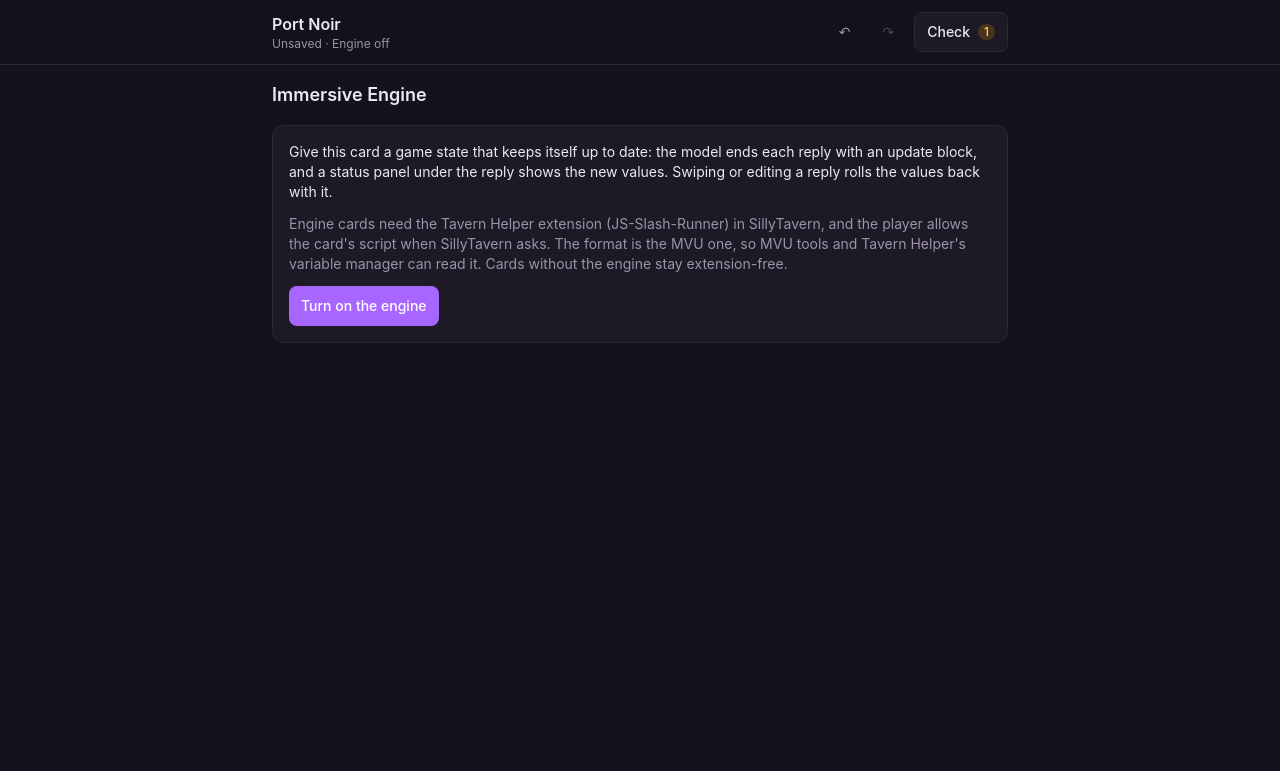
the parts browser › previews a part, and says so for one without a screen
This screenshot has width=1280, height=771.
What coordinates should you click on to do the following:
click the button "Turn on the engine"
I would click on:
 (364, 306)
Its box is [289,286,438,326].
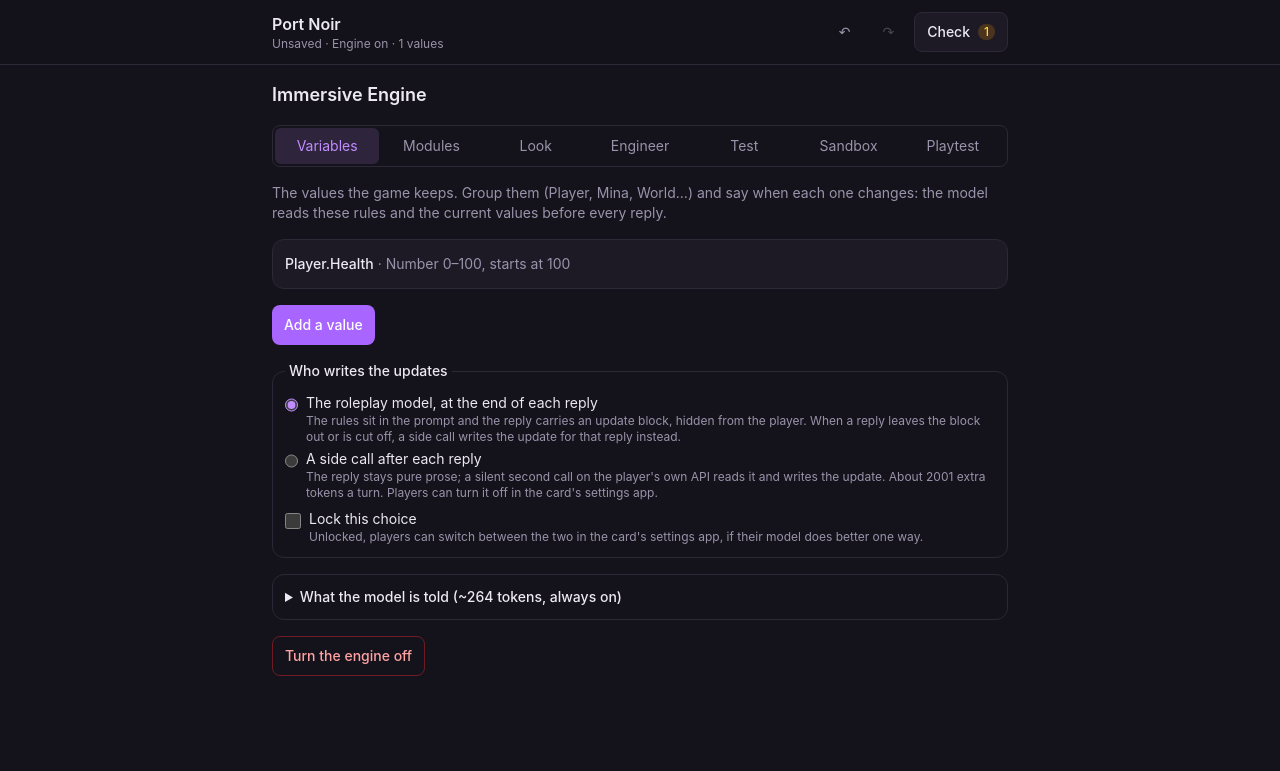
What coordinates should you click on to do the following:
click the tab "Modules"
I would click on:
 (431, 146)
Its box is [379,128,484,164].
(page scrolled)
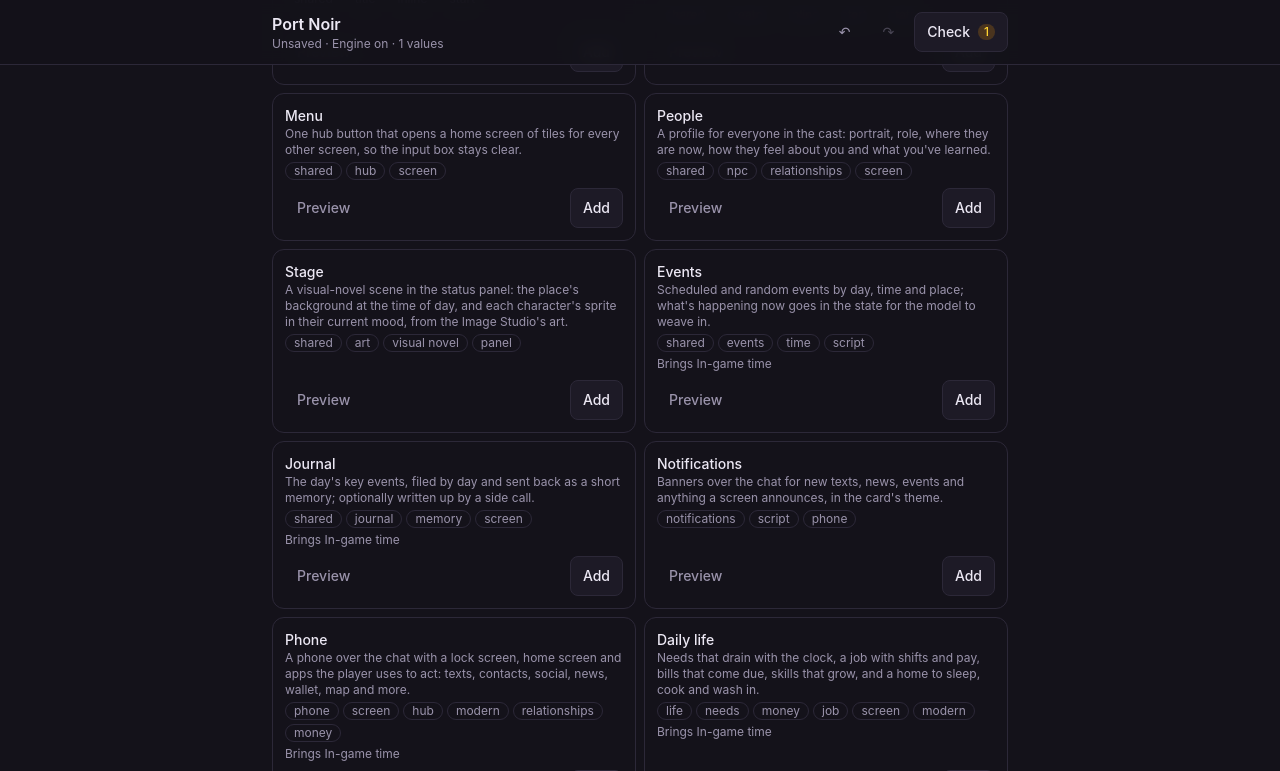
What coordinates should you click on to do the following:
click the button with aria-label "Preview the events"
I would click on:
 (696, 400)
Its box is [657,380,734,420].
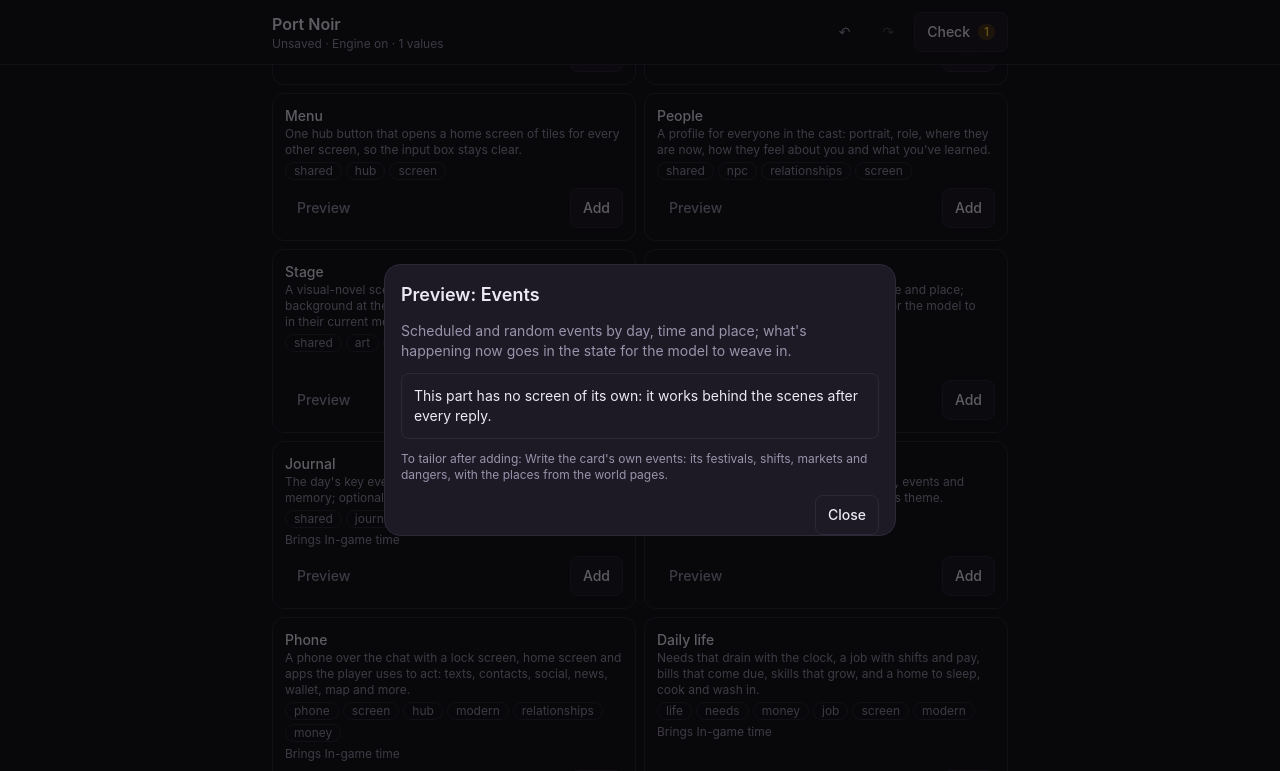
Check: the dialog "Preview: Events" shows "no screen of its own", box [414,387,858,424]
